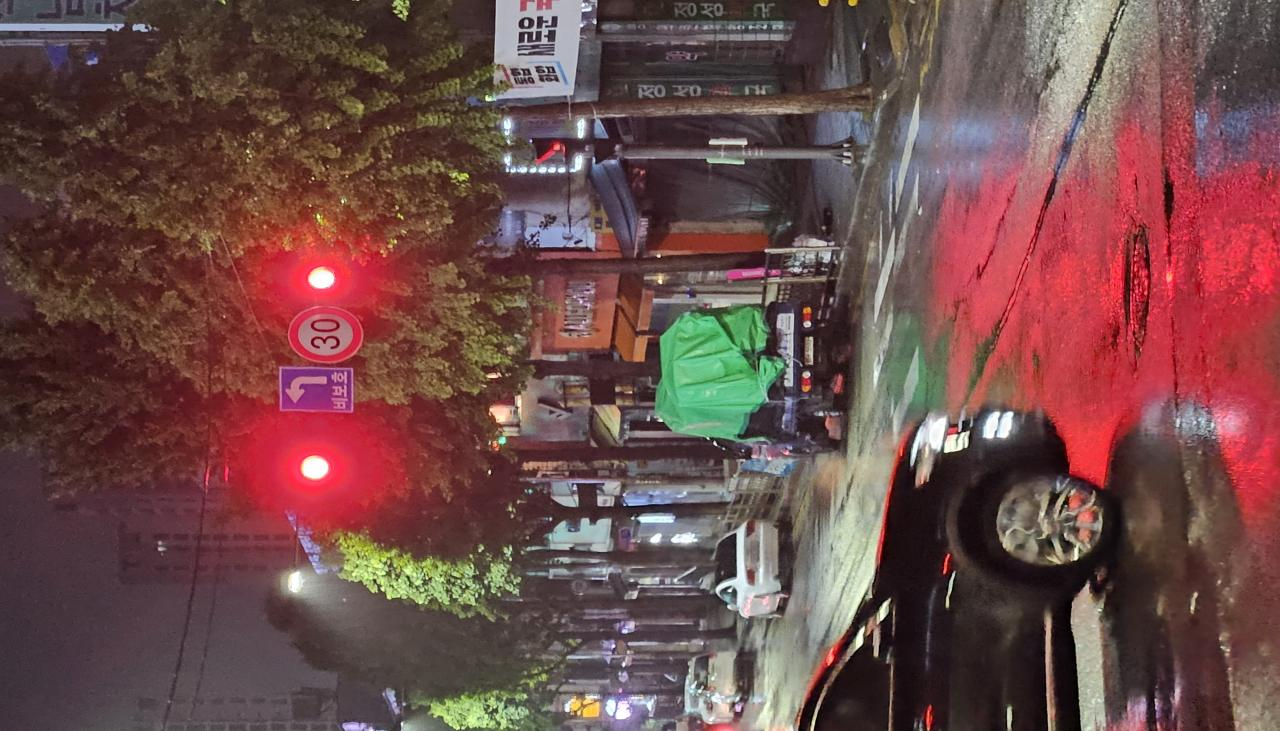Red Light: (574, 231, 613, 258), (326, 226, 365, 252)
